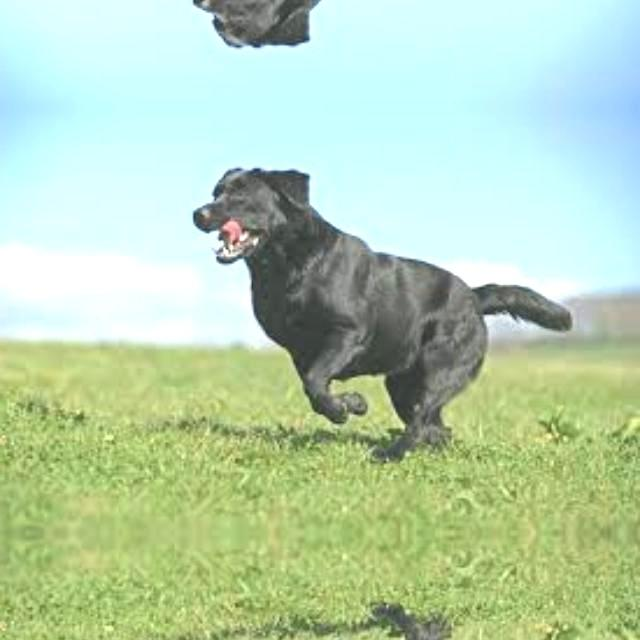dog: (182, 157, 586, 457), (183, 0, 586, 57), (183, 609, 586, 640)
